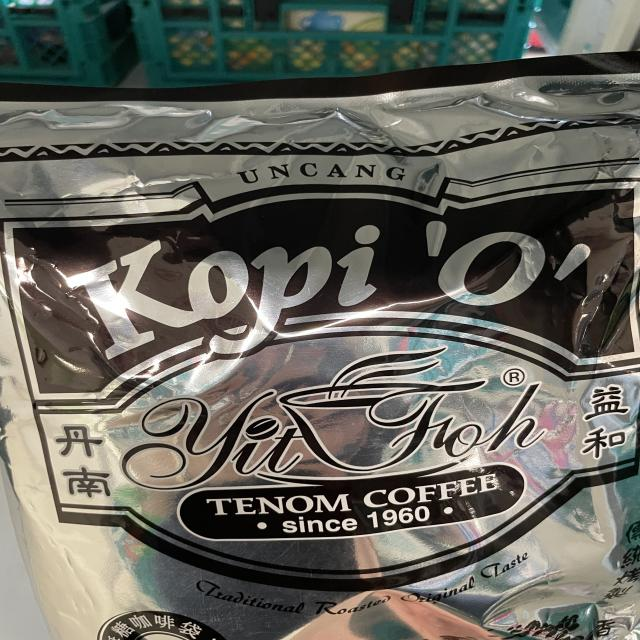object_name: (0, 91, 638, 640)
